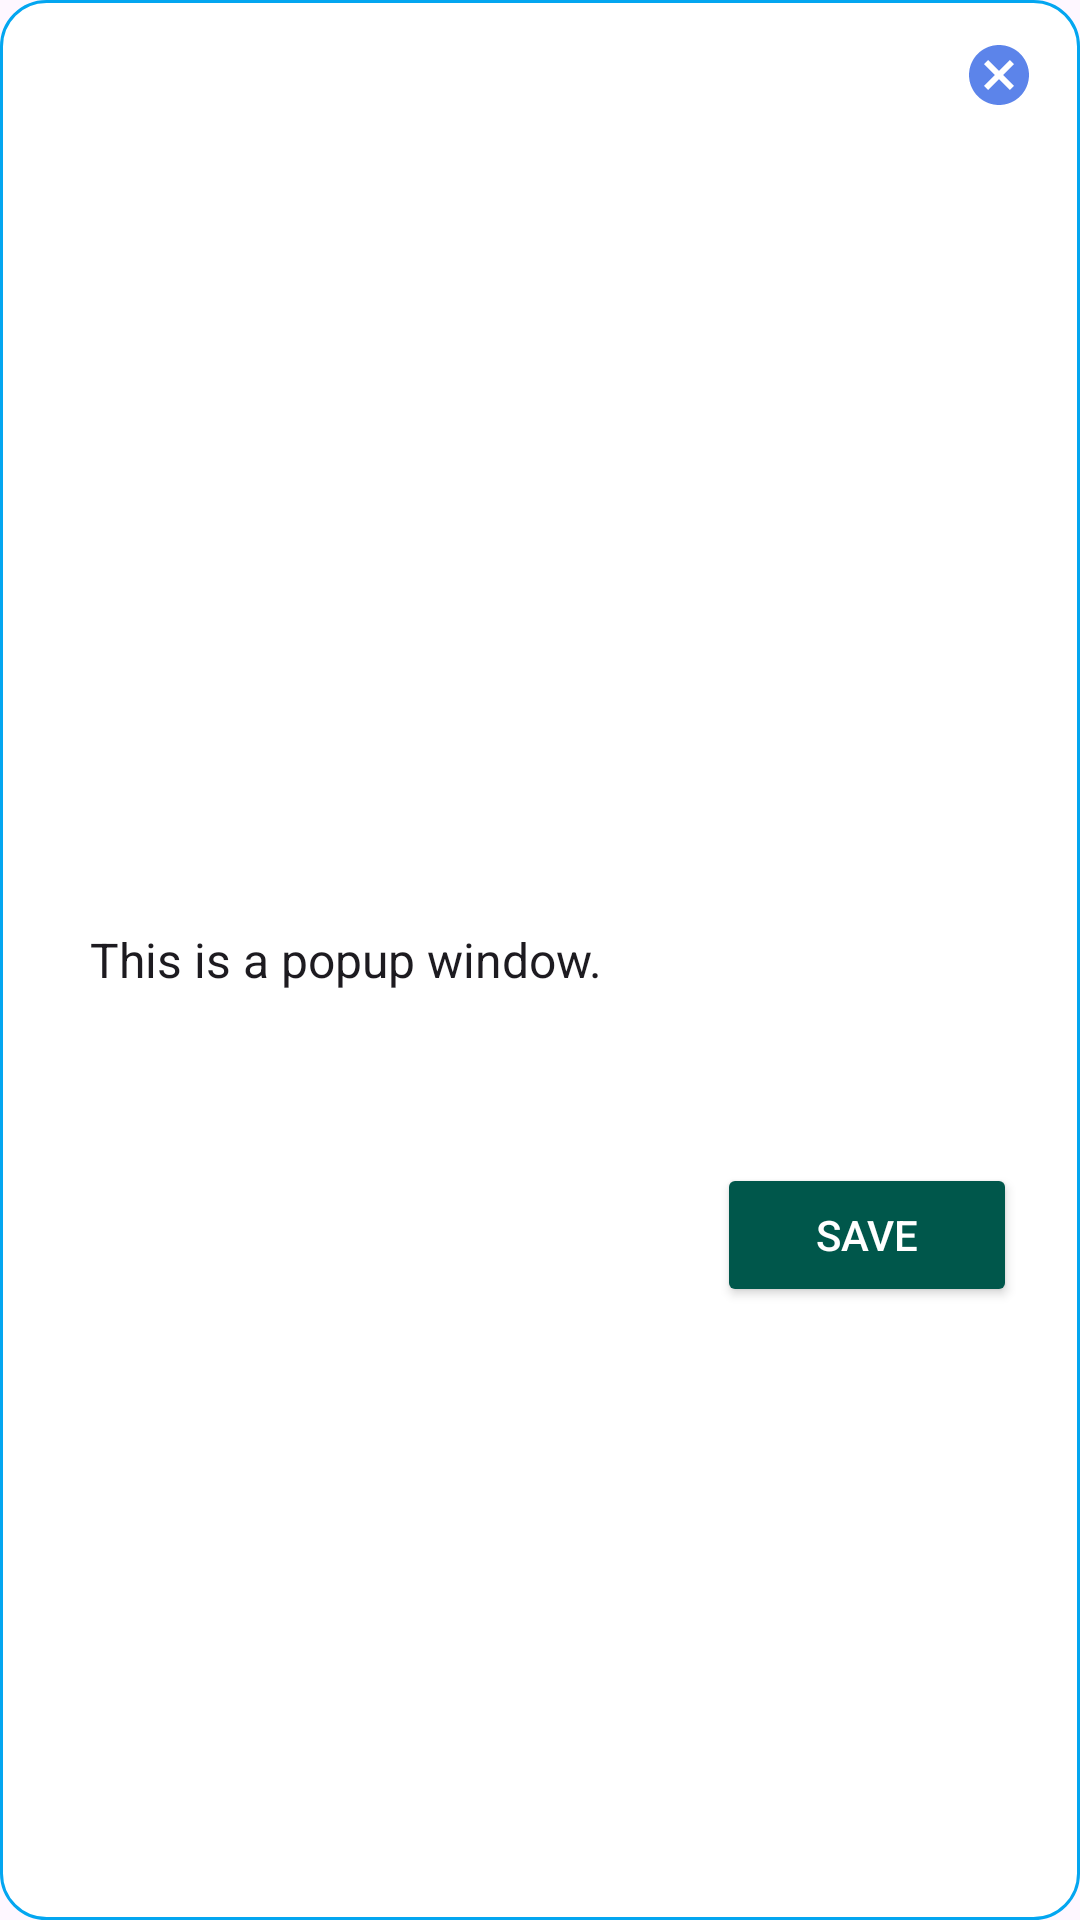

Named icons in this screenshot (1080px×1920px) and their bounding boxes, [x1=x1, y1=y1, x2=x2, y2=y2]:
cancel: [x1=969, y1=45, x2=1029, y2=105]
